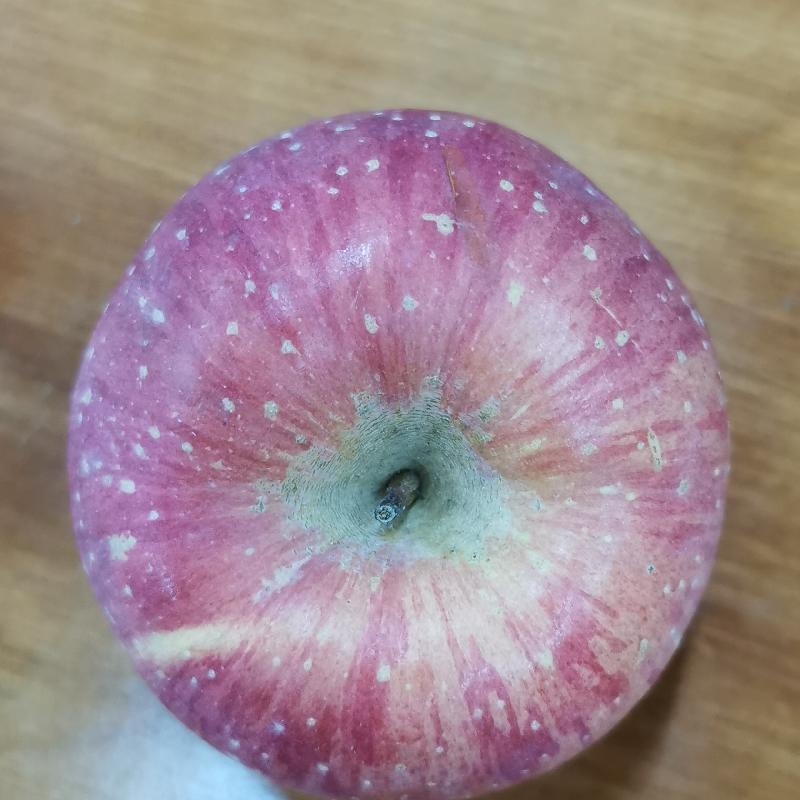apples: (65, 107, 730, 799)
